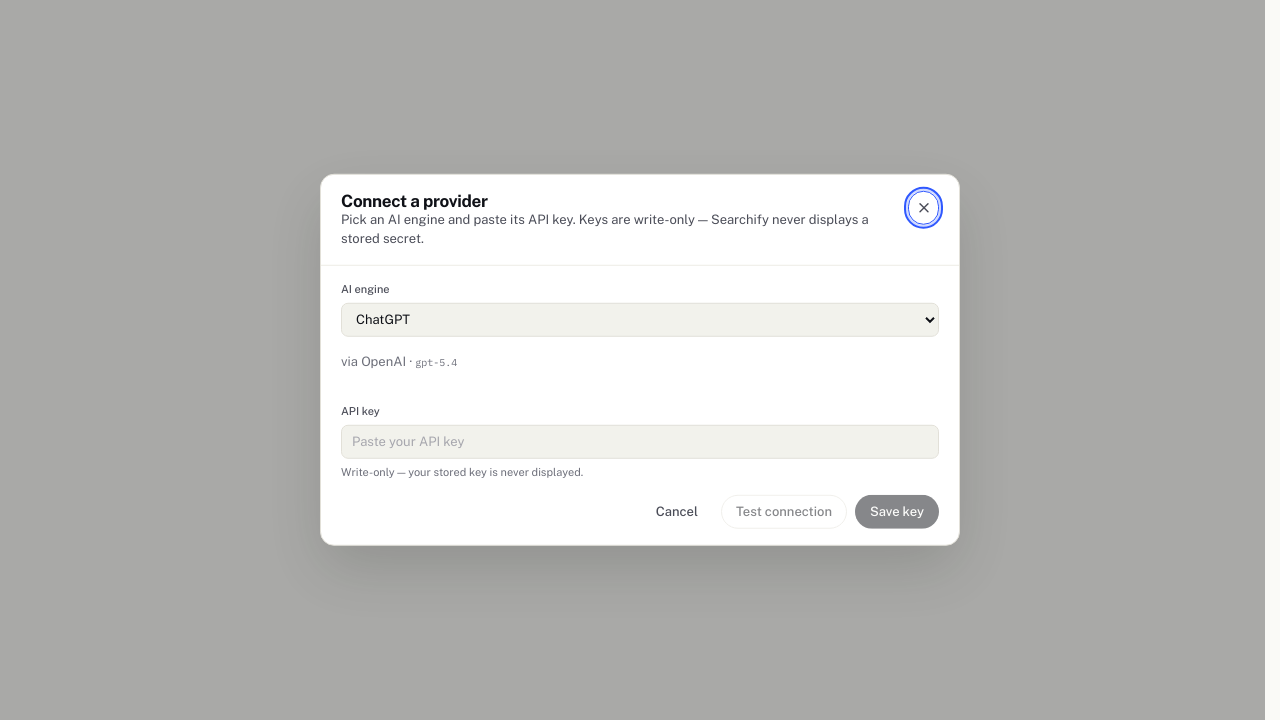
ConnectProviderDialog › shows a save error and stays open
The width and height of the screenshot is (1280, 720).
Type "sk-bad-key" into the password field labelled "API key". click: (640, 441)
box: [341,424,939,458]
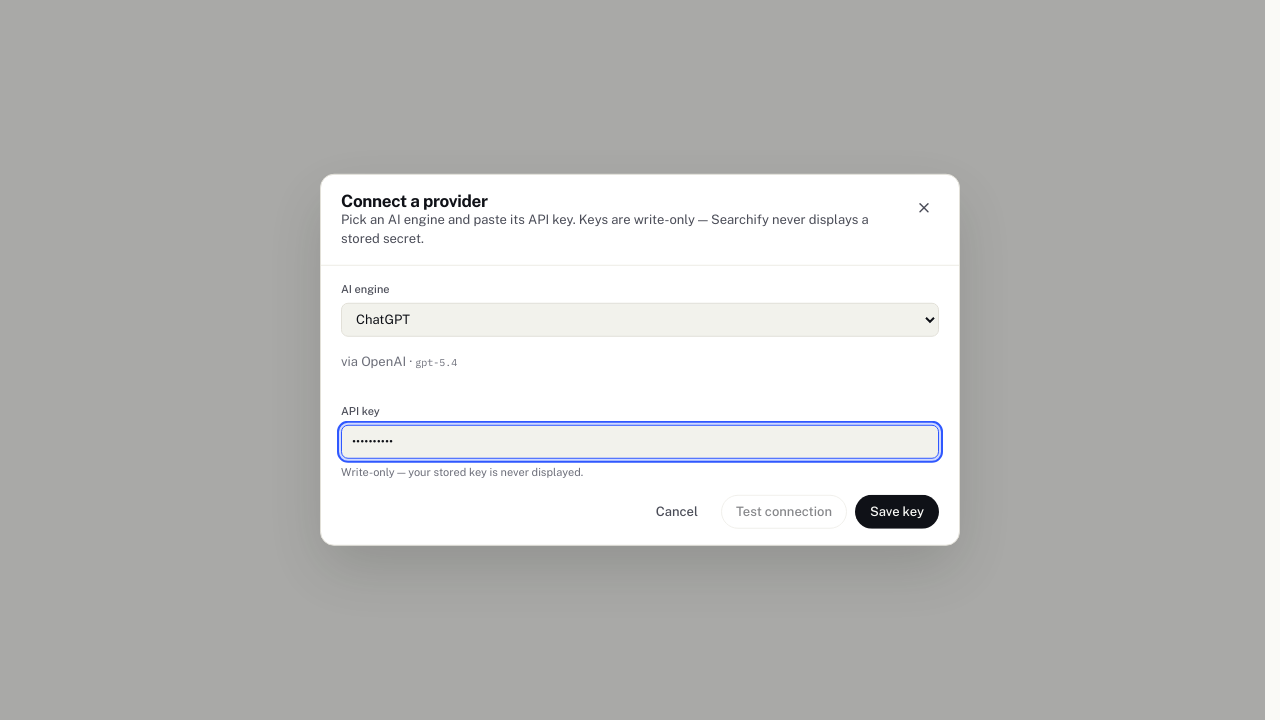
Click the button "Save key". click: (897, 512)
box: [855,495,939,529]
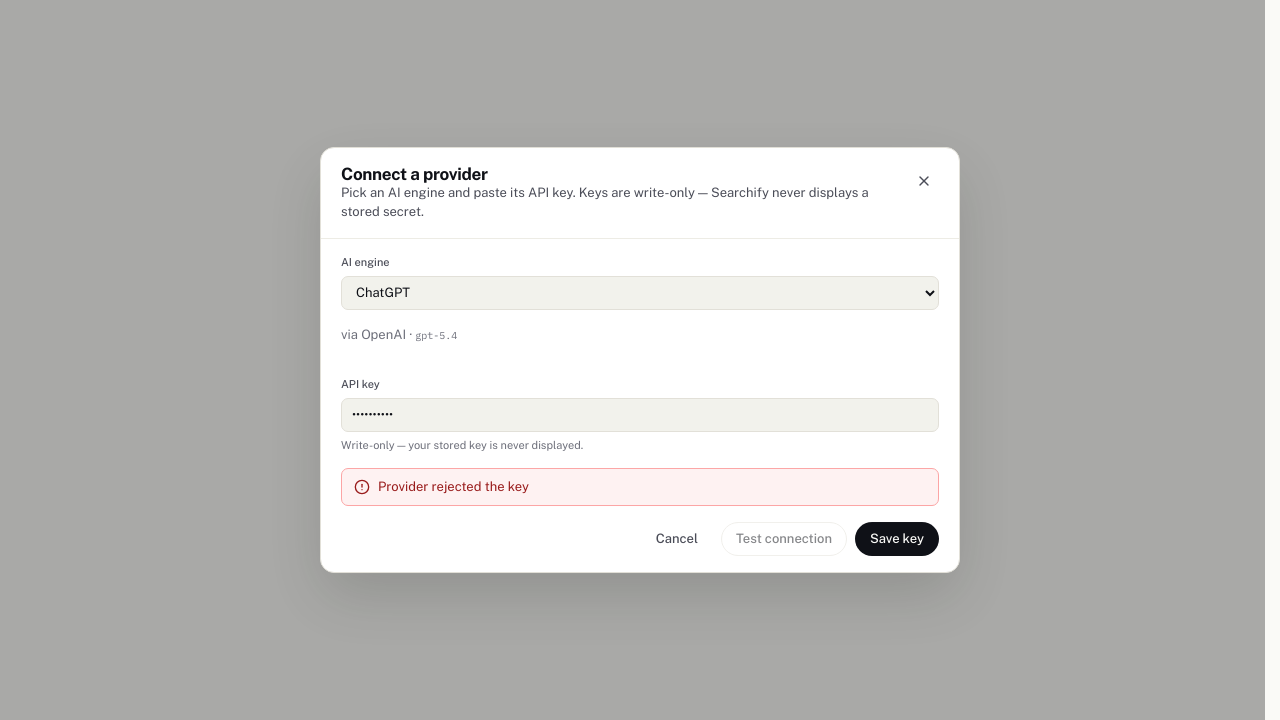
Expected: the dialog "Connect a provider" is shown, [320,147,960,573]
Now the message reads "Provider rejected the key", box [378,480,529,494]
